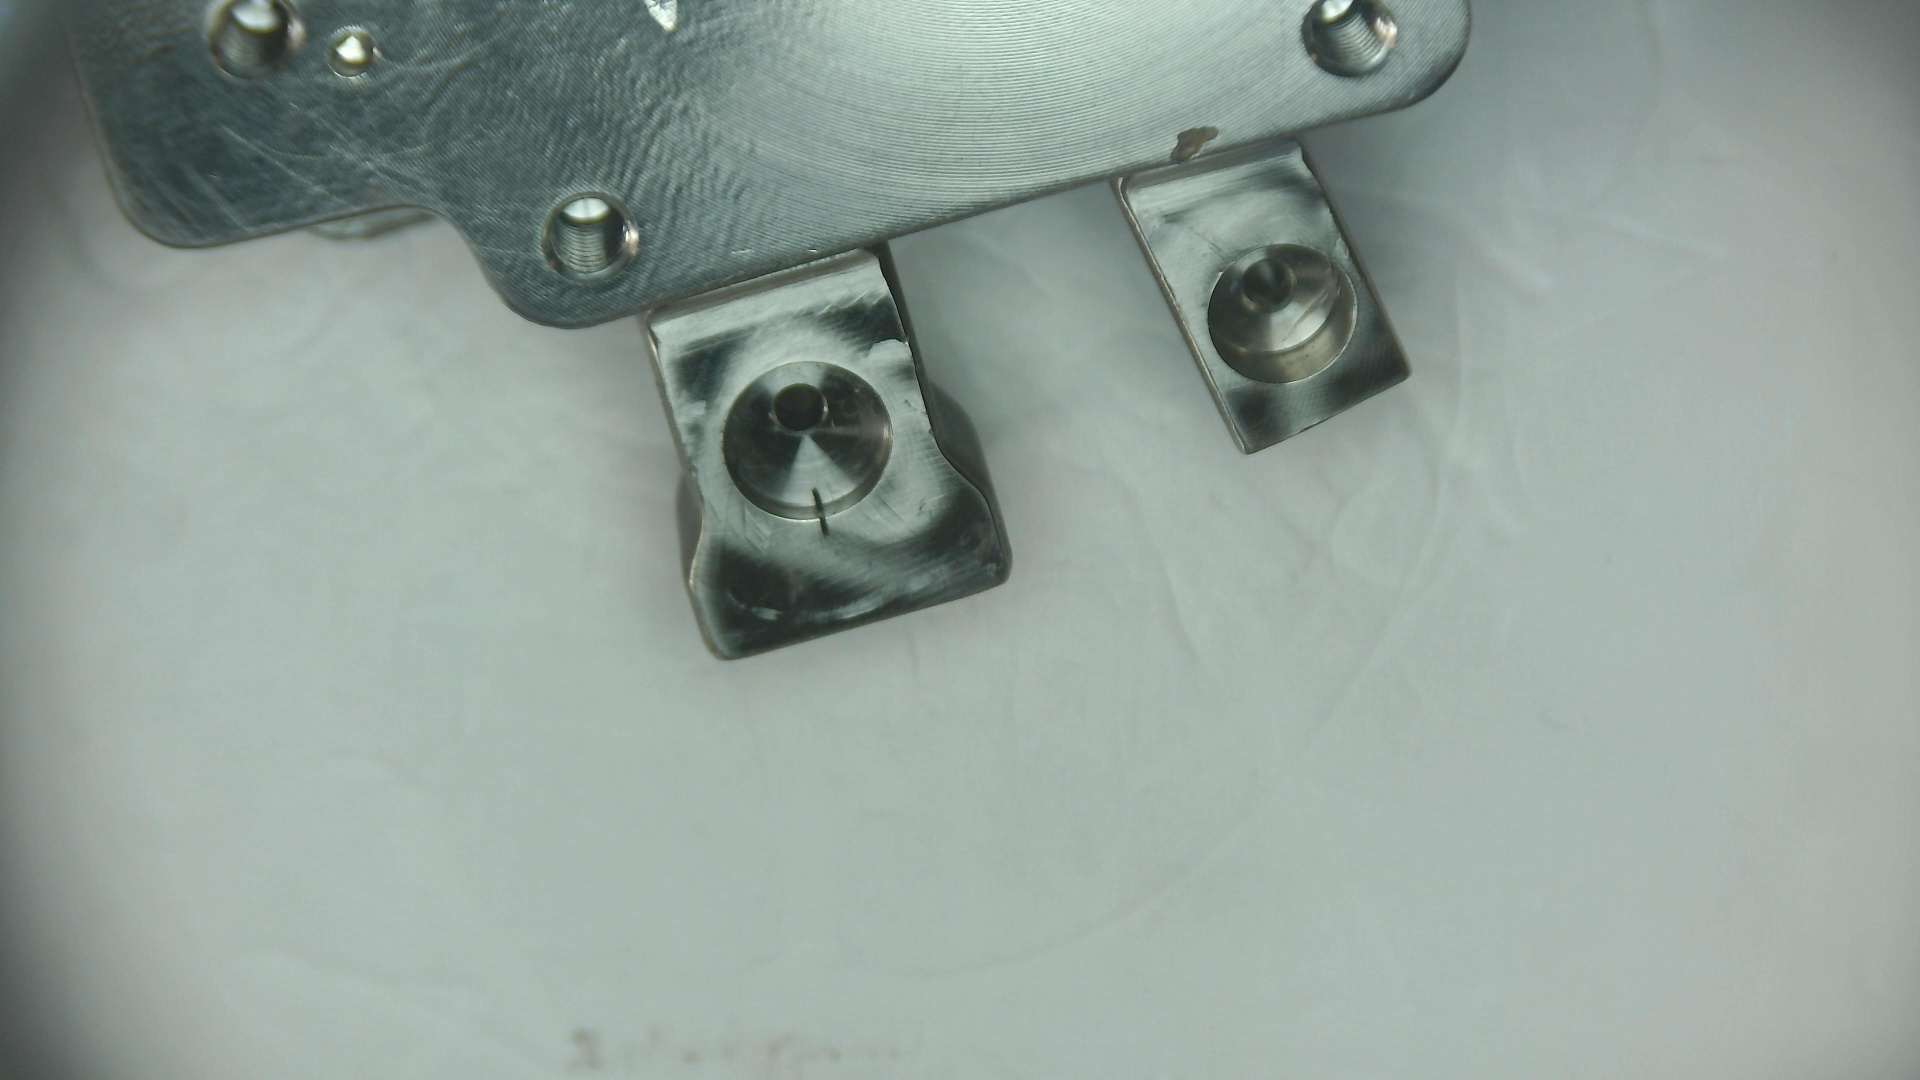burr: (1607, 967, 1673, 1080)
